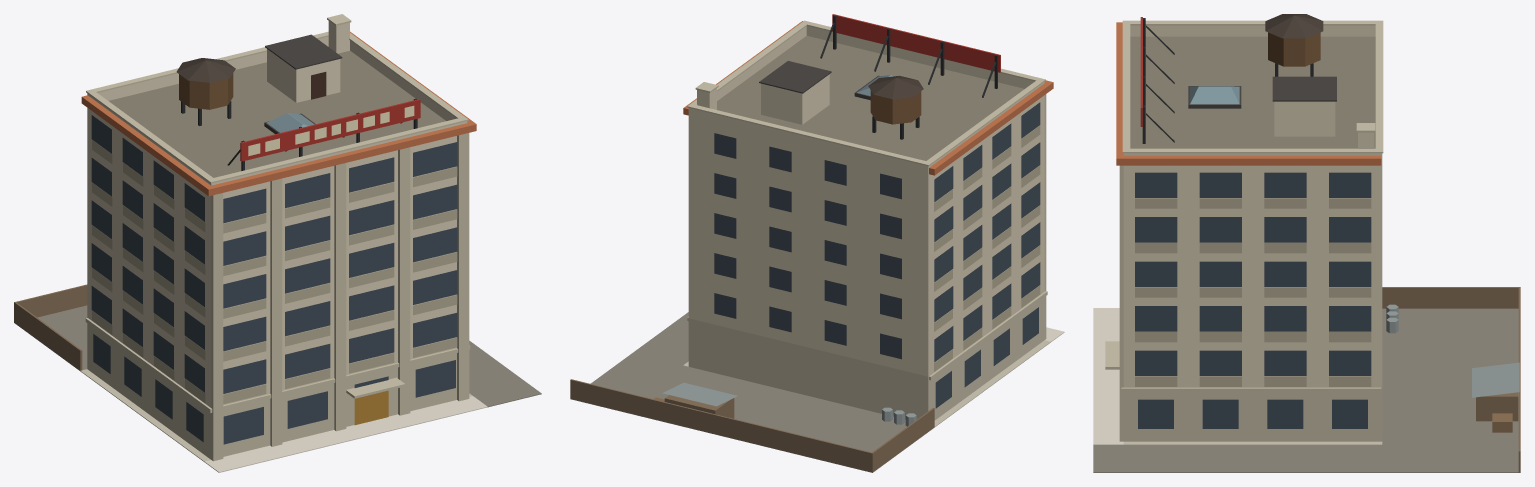
The model's file is office_u.glb.
3 renders of one model, left to right at view 1: azimuth 30°, elevation 25°; view 2: azimuth 150°, elevation 25°; view 3: azimuth 270°, elevation 25°, orthographic. The views are drawn at different scales.
Visible parts, largest first — view 1: office_u; view 2: office_u; view 3: office_u.
Part boxes in pixels (<box>): office_u: <box>14,14,541,472</box>; office_u: <box>570,14,1064,472</box>; office_u: <box>1093,14,1520,472</box>.
Bounding box in the file's own units: 20 × 19.06 × 22.
